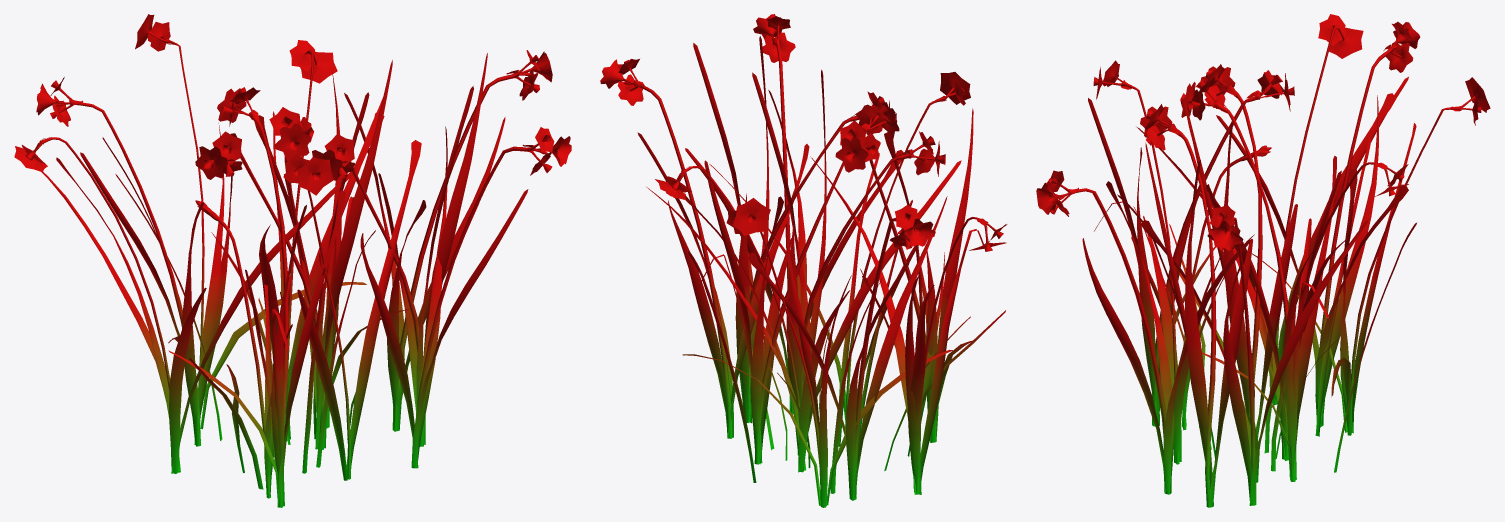
Rendered from Rush Daffodil_LOD2_Var1_wftgfjaia.fbx.
3 renders of one model, left to right at view 1: azimuth 30°, elevation 25°; view 2: azimuth 150°, elevation 25°; view 3: azimuth 270°, elevation 25°, orthographic. The views are drawn at different scales.
Visible parts, largest first — view 1: _iu6q_var1_LOD2; view 2: _iu6q_var1_LOD2; view 3: _iu6q_var1_LOD2.
Part boxes in pixels (x1,y1,x2,y2): _iu6q_var1_LOD2: [14, 14, 571, 507]; _iu6q_var1_LOD2: [600, 14, 1007, 507]; _iu6q_var1_LOD2: [1036, 14, 1490, 507].
Bounding box in the file's own units: 46.16 × 35.52 × 38.63.
